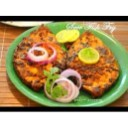seerfish: (69, 31, 120, 99), (15, 24, 65, 91)
